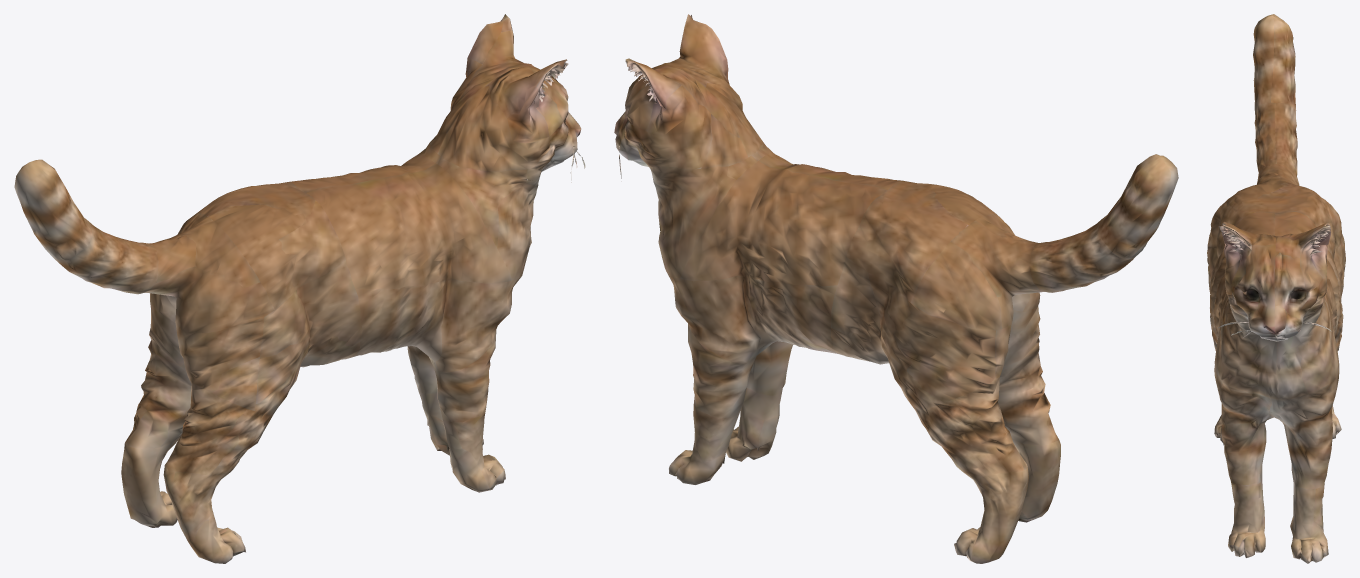
The model's file is SAYHIBOB-lo.glb.
3 renders of one model, left to right at view 1: azimuth 30°, elevation 25°; view 2: azimuth 150°, elevation 25°; view 3: azimuth 270°, elevation 25°, orthographic. The views are drawn at different scales.
Parts seen in each view (by area): view 1: tripo_node_9006b4e8-722f-4687-a383-f01a0df454eb; view 2: tripo_node_9006b4e8-722f-4687-a383-f01a0df454eb; view 3: tripo_node_9006b4e8-722f-4687-a383-f01a0df454eb.
Part boxes in pixels (x1,y1,x2,y2): tripo_node_9006b4e8-722f-4687-a383-f01a0df454eb: (14, 14, 585, 563); tripo_node_9006b4e8-722f-4687-a383-f01a0df454eb: (614, 14, 1178, 563); tripo_node_9006b4e8-722f-4687-a383-f01a0df454eb: (1207, 14, 1345, 563).
Size of the model in its own units: 1.4 by 0.9977 by 0.3506.
1 material, 1 textured.
